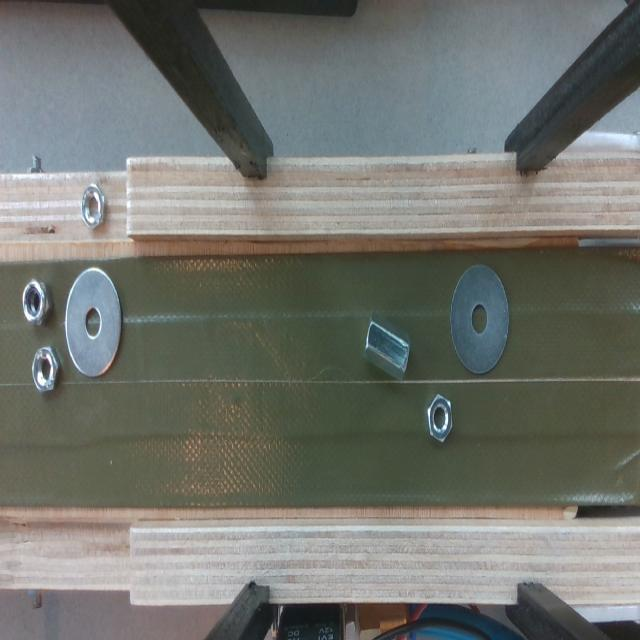Nut: (353, 312, 413, 388), (27, 340, 64, 396), (423, 389, 457, 447), (76, 183, 112, 230), (19, 277, 52, 327)
Washer: (443, 260, 517, 377), (59, 264, 124, 377)
